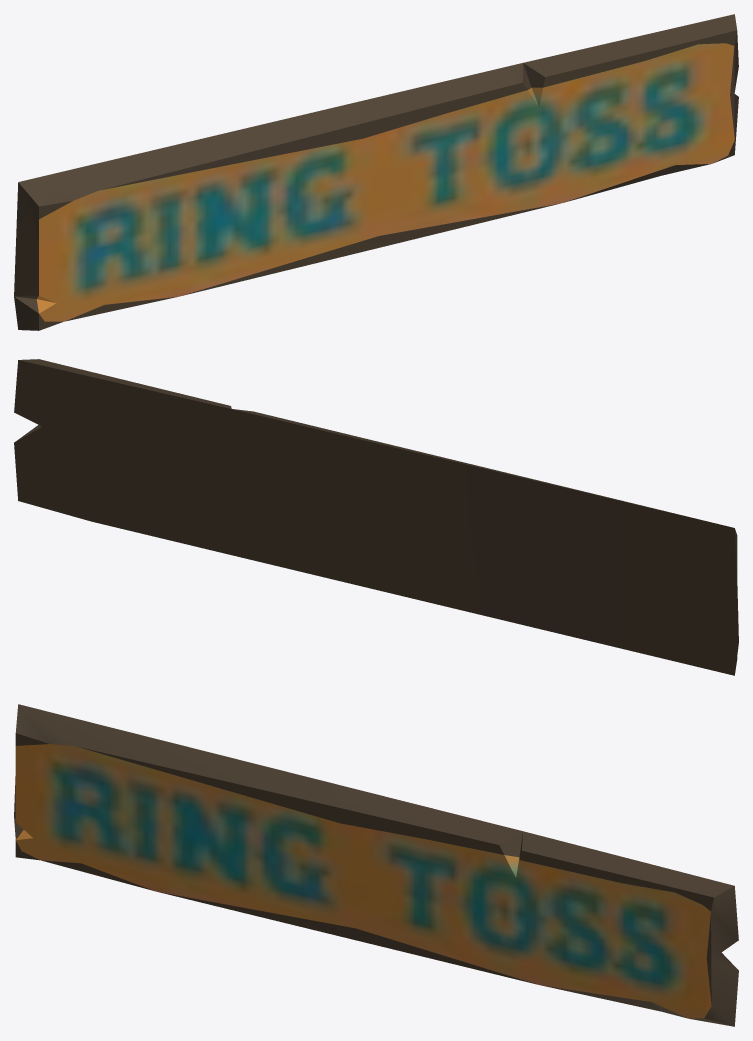
File: SM_Prop_Sign_Ring_Toss_01.glb
The picture shows the model from 3 angles, top to bottom: view 1: azimuth 30°, elevation 25°; view 2: azimuth 150°, elevation 25°; view 3: azimuth 330°, elevation 25°; orthographic projection.
Parts seen in each view (by area): view 1: SM_Prop_Sign_Ring_Toss_01; view 2: SM_Prop_Sign_Ring_Toss_01; view 3: SM_Prop_Sign_Ring_Toss_01.
Boxes of the visible parts, <box> form: SM_Prop_Sign_Ring_Toss_01: <box>14,14,738,330</box>; SM_Prop_Sign_Ring_Toss_01: <box>14,359,738,675</box>; SM_Prop_Sign_Ring_Toss_01: <box>14,704,738,1026</box>.
Bounding box in the file's own units: 223 × 44.31 × 6.34.
1 material, 1 textured.
